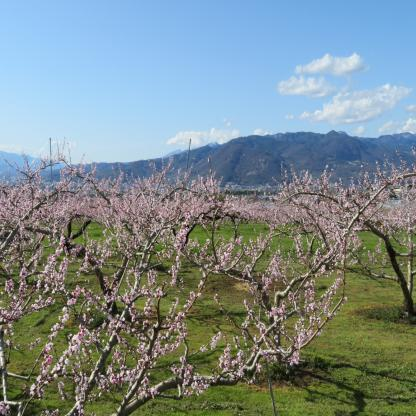Momo: (0, 136, 356, 415), (281, 146, 416, 294), (228, 183, 316, 224)
